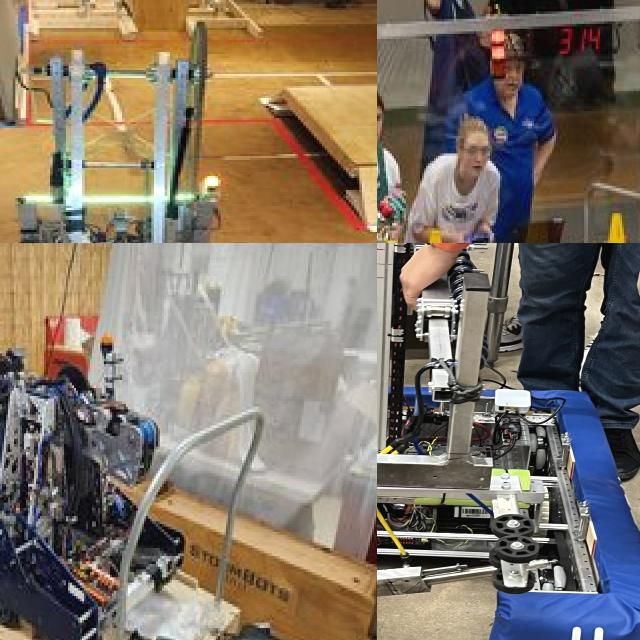FRC-Robots: (377, 243, 640, 640), (0, 10, 306, 243), (0, 333, 192, 640)
